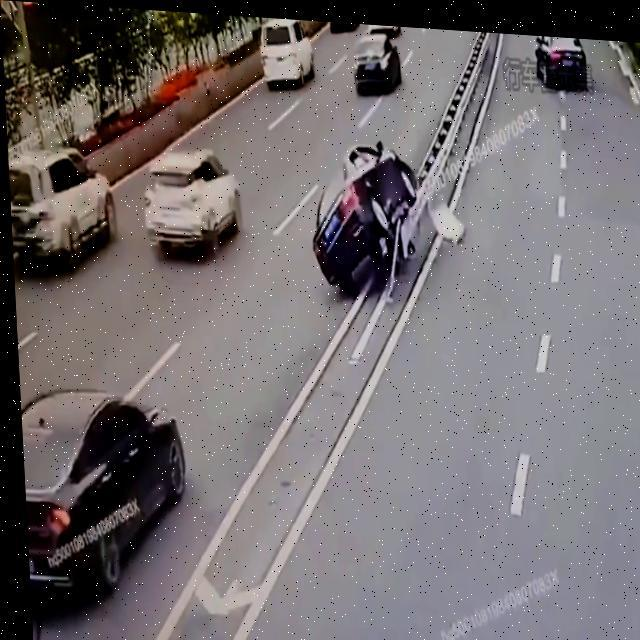normal: (25, 387, 192, 615), (9, 145, 126, 297), (139, 140, 251, 255), (340, 25, 409, 102)
single accident: (306, 125, 434, 311)
